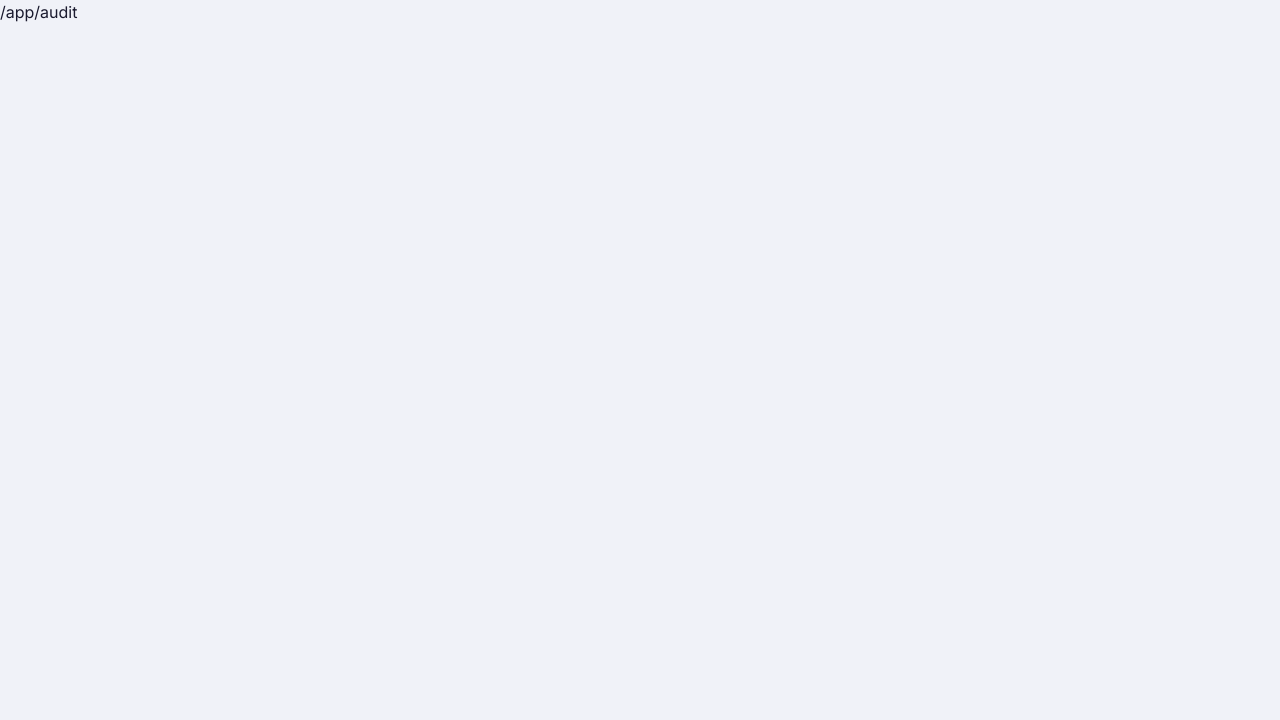
Scenario: CommandPalette interactions › shows the empty-results state for a query with no matches
Press k
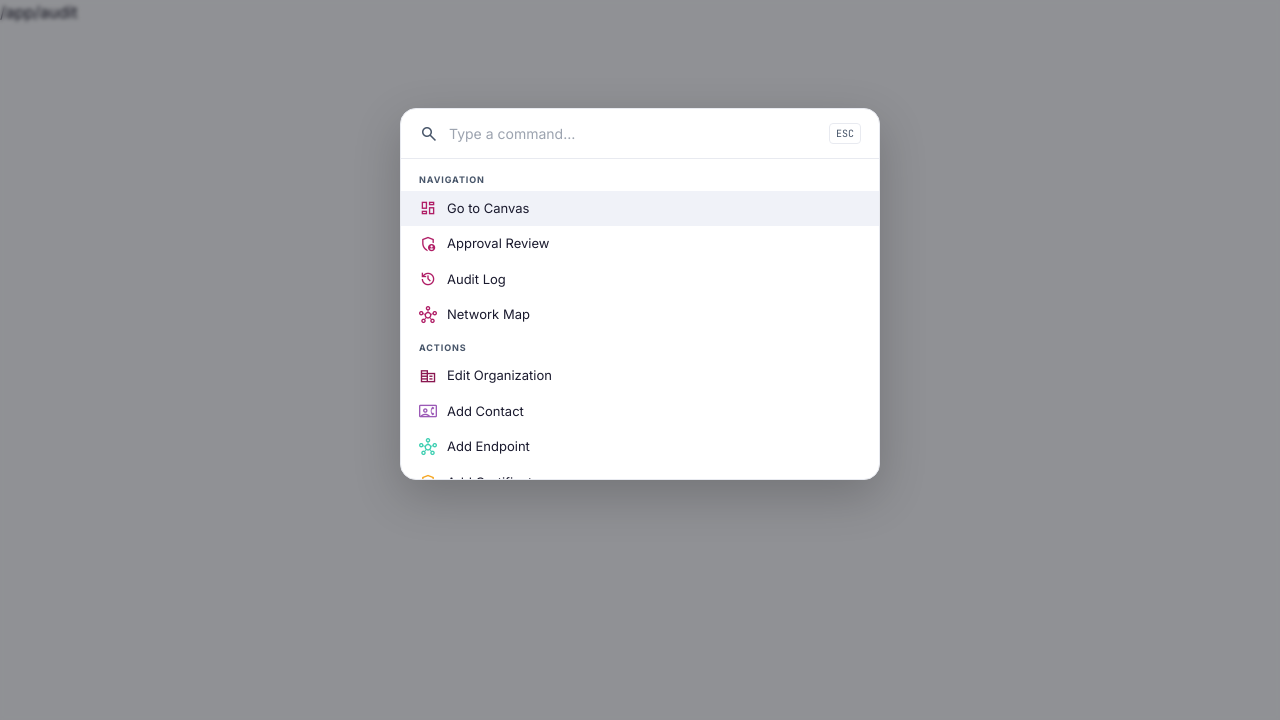
Type "zzz-no-such-command" into the field with placeholder "Type a command…" at (634, 134), box x1=449 y1=123 x2=819 y2=144
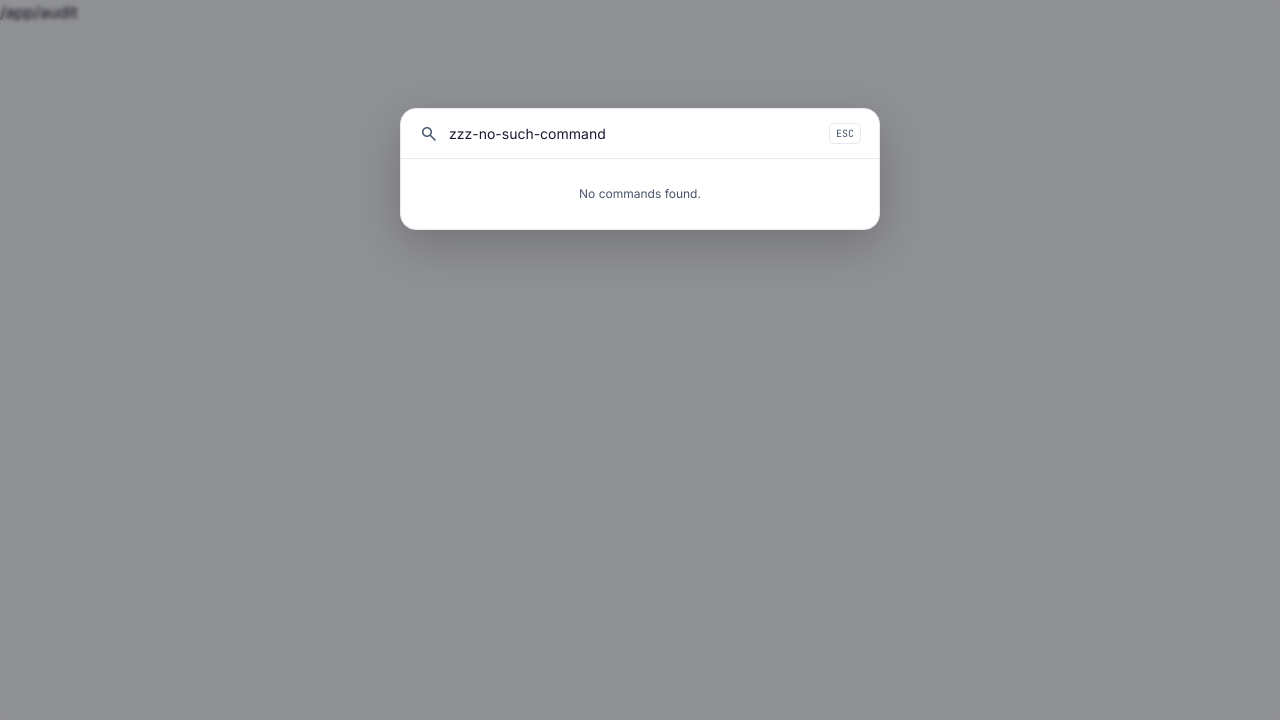
Expected: the text "No commands found." is shown, x1=579 y1=186 x2=701 y2=201
Expected: the button "Go to Canvas" is gone
